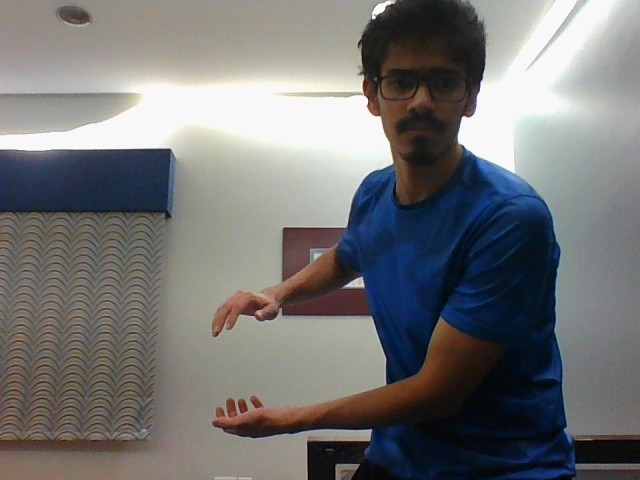charge: (200, 281, 303, 439)
